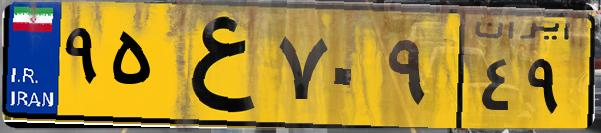0: (330, 28, 385, 110)
4: (475, 38, 525, 113)
5: (110, 28, 158, 98)
7: (270, 28, 330, 110)
9: (385, 28, 445, 110), (57, 26, 110, 100), (525, 38, 570, 115)
ع: (158, 12, 270, 120)
